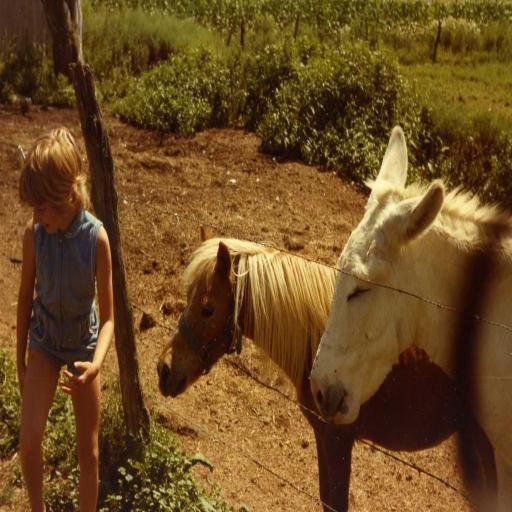horse: (154, 220, 468, 512)
